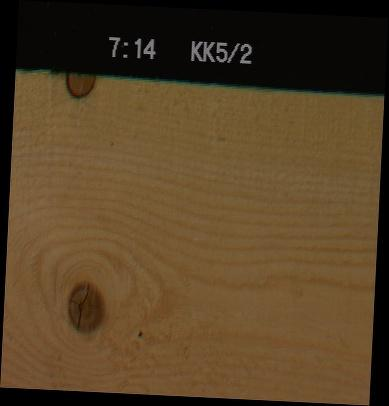sound_knot: (65, 280, 104, 333)
